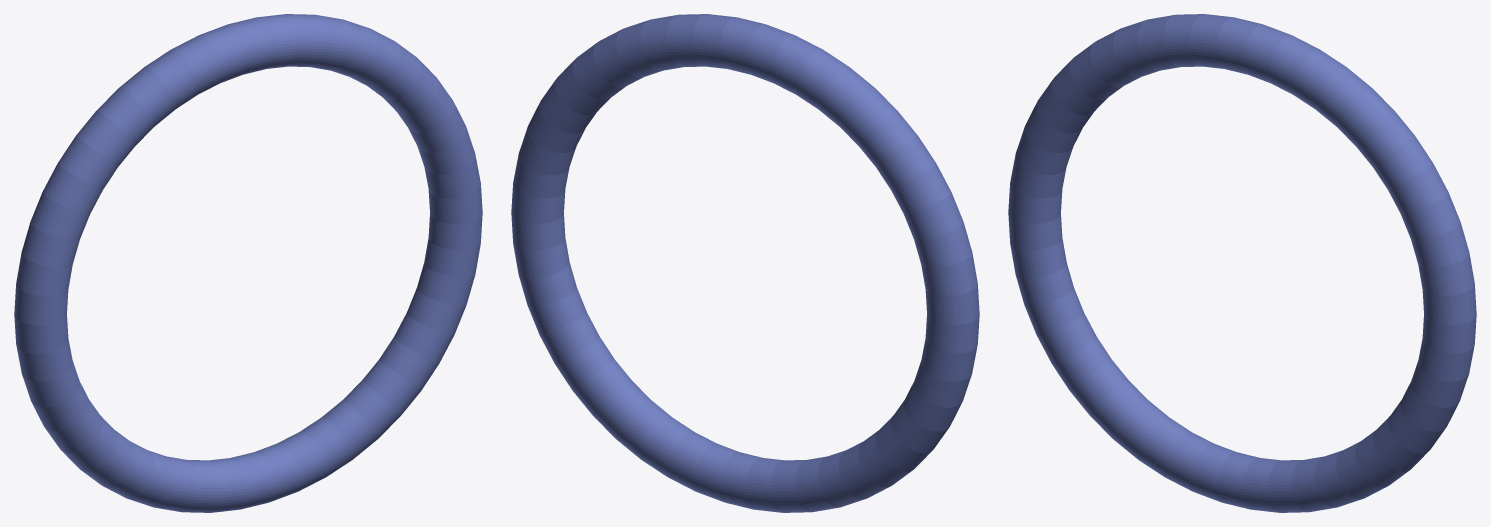
The picture shows the model from 3 angles, left to right: view 1: azimuth 30°, elevation 25°; view 2: azimuth 150°, elevation 25°; view 3: azimuth 330°, elevation 25°; orthographic projection.
Parts seen in each view (by area): view 1: world; view 2: world; view 3: world.
Boxes of the visible parts, x1,y1,x2,y2 form: world: (14,14,482,512); world: (511,14,979,512); world: (1008,14,1476,512).
Size of the model in its own units: 22.93 by 22.89 by 2.26.
